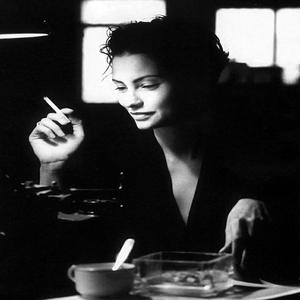cigarette: (43, 95, 72, 128)
